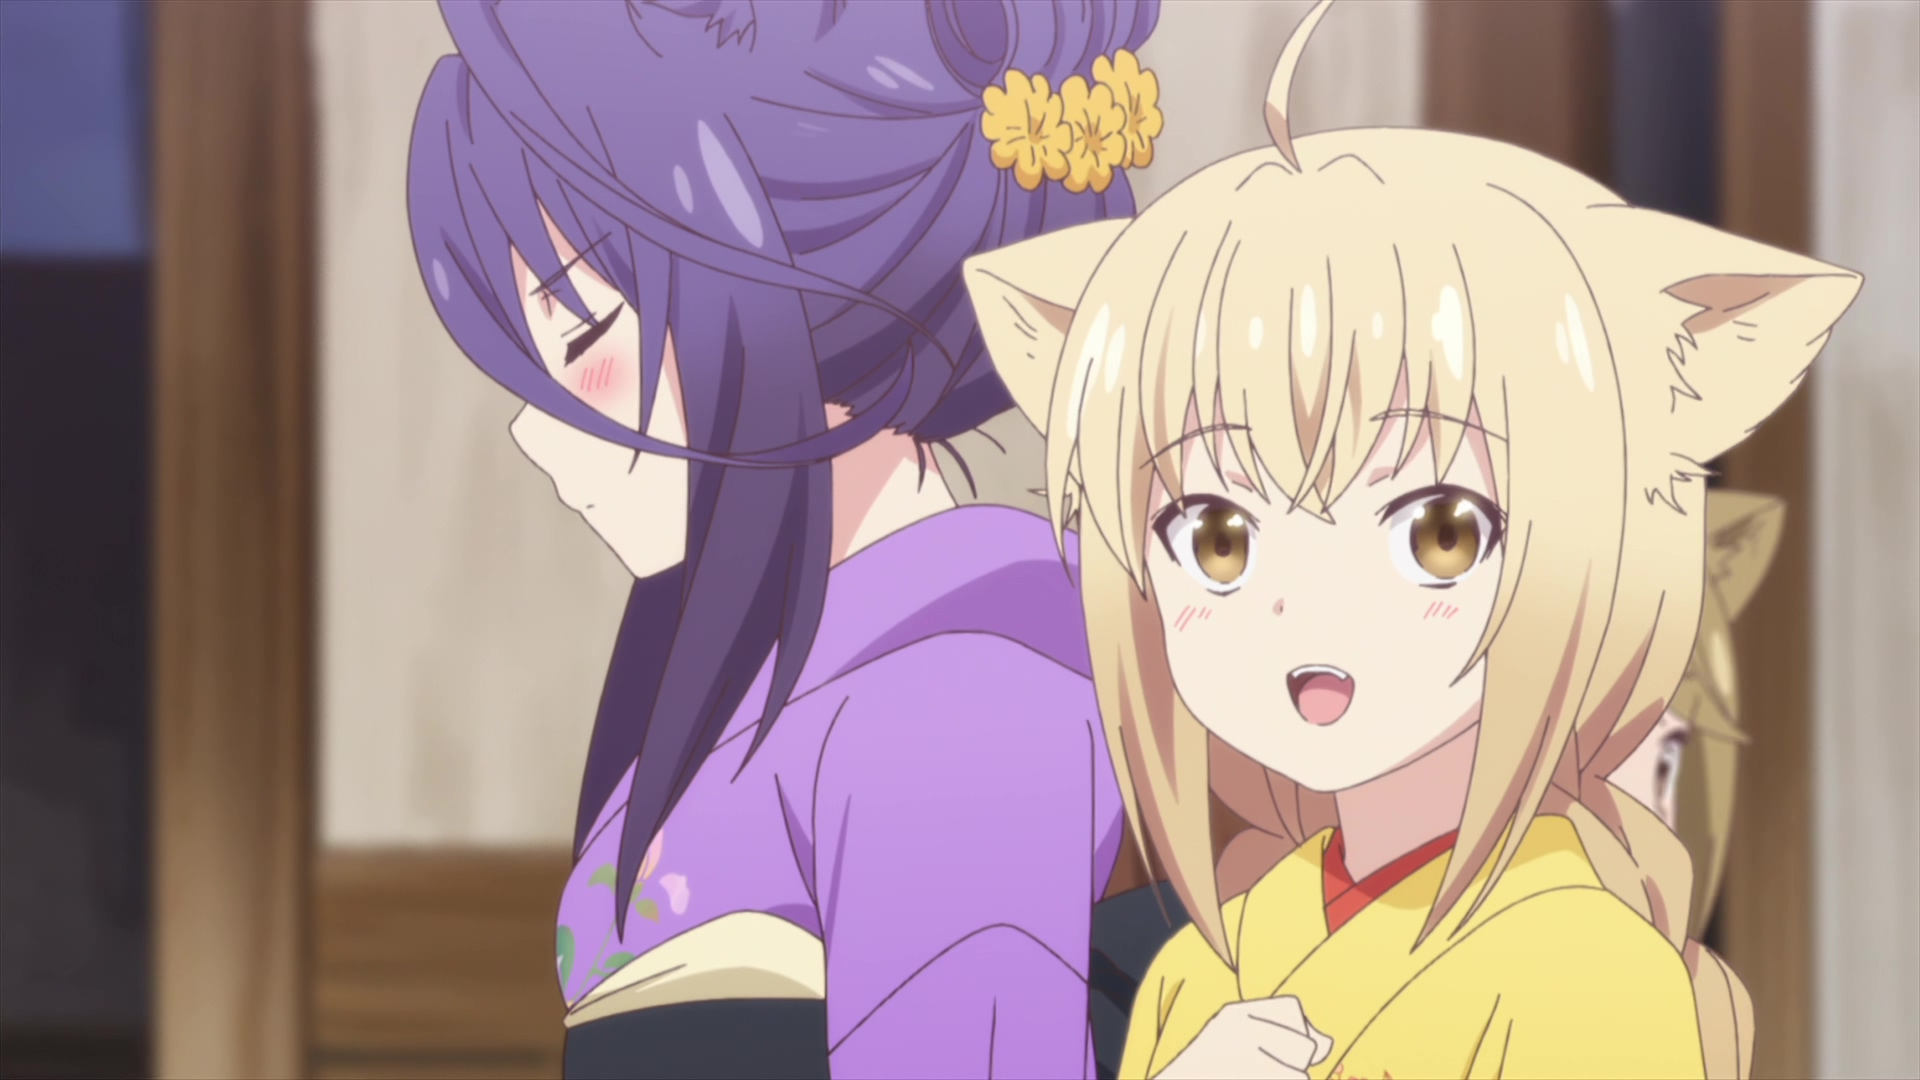柚: (963, 1, 1865, 1080)
皋: (406, 1, 1185, 1080)
